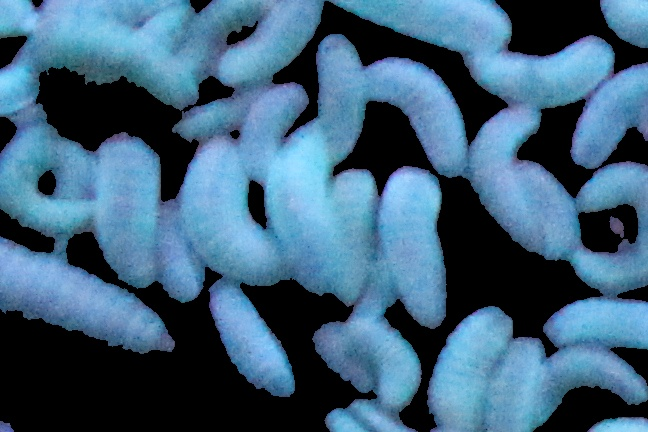larvae: (1, 235, 175, 353), (178, 138, 283, 285), (363, 57, 467, 174), (459, 109, 539, 254), (382, 165, 450, 328), (428, 306, 515, 432), (267, 120, 330, 292), (466, 35, 614, 108), (1, 123, 95, 234), (96, 131, 159, 290), (573, 163, 648, 295), (208, 285, 297, 396), (85, 18, 201, 103), (326, 1, 514, 51), (216, 1, 322, 89), (569, 62, 648, 169), (10, 26, 121, 89), (329, 169, 380, 305), (547, 346, 648, 414), (311, 33, 365, 158), (175, 1, 265, 75), (238, 81, 309, 174), (485, 336, 553, 432), (347, 326, 420, 409), (545, 294, 648, 351), (520, 159, 576, 263), (171, 84, 273, 137), (153, 201, 205, 303), (309, 325, 371, 395), (131, 1, 202, 49), (51, 137, 94, 200)
